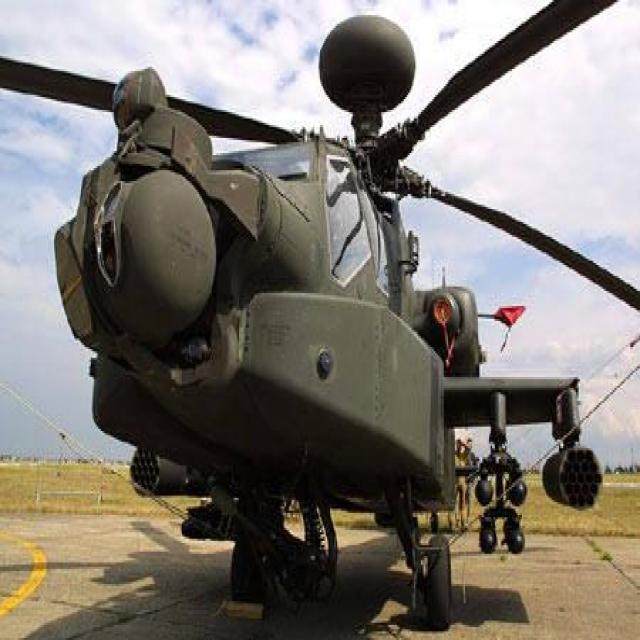MIL_HELO: (2, 0, 640, 626)
